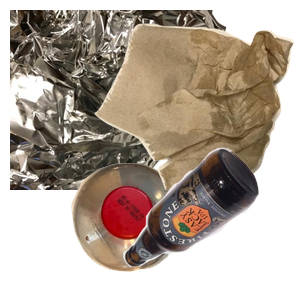glass: (120, 145, 300, 300)
metal: (10, 10, 229, 190)
plastic: (69, 161, 245, 300)
trash: (92, 21, 300, 201)
